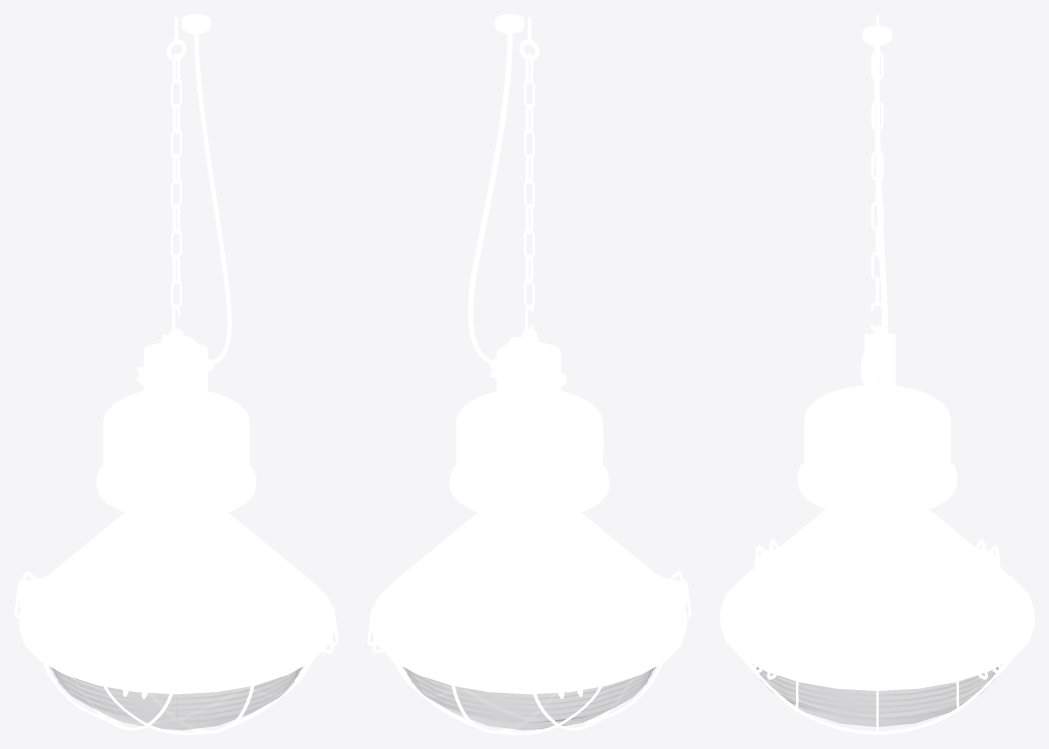
The picture shows the model from 3 angles, left to right: view 1: azimuth 30°, elevation 25°; view 2: azimuth 150°, elevation 25°; view 3: azimuth 270°, elevation 25°; orthographic projection.
Parts seen in each view (by area): view 1: hanging_industrial_lamp; view 2: hanging_industrial_lamp; view 3: hanging_industrial_lamp.
Part boxes in pixels (<box>): hanging_industrial_lamp: <box>14,14,338,734</box>; hanging_industrial_lamp: <box>367,14,691,734</box>; hanging_industrial_lamp: <box>720,14,1034,734</box>.
Size of the model in its own units: 0.5496 by 1.36 by 0.5496.
Materials: 2 (1 with a texture image).
